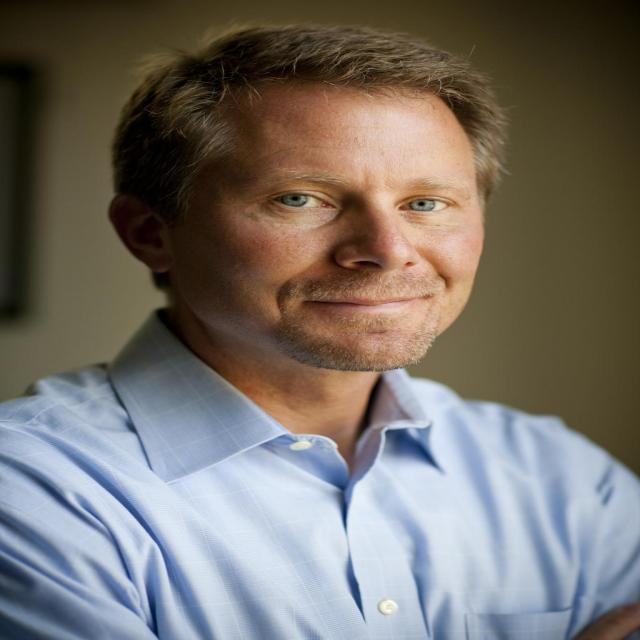Face: (147, 46, 504, 371)
